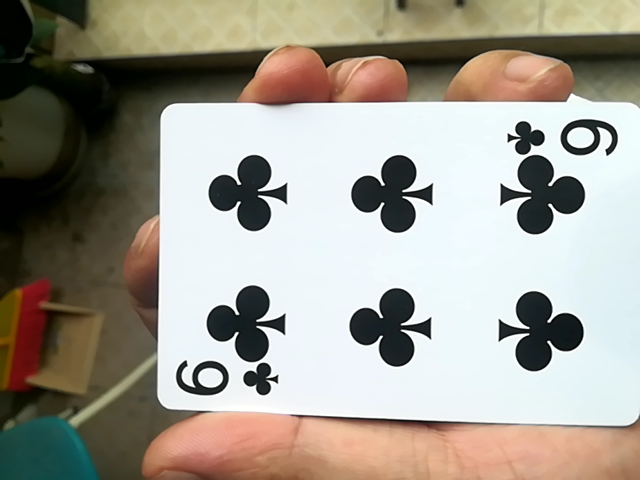mh 6: (144, 97, 633, 438)
